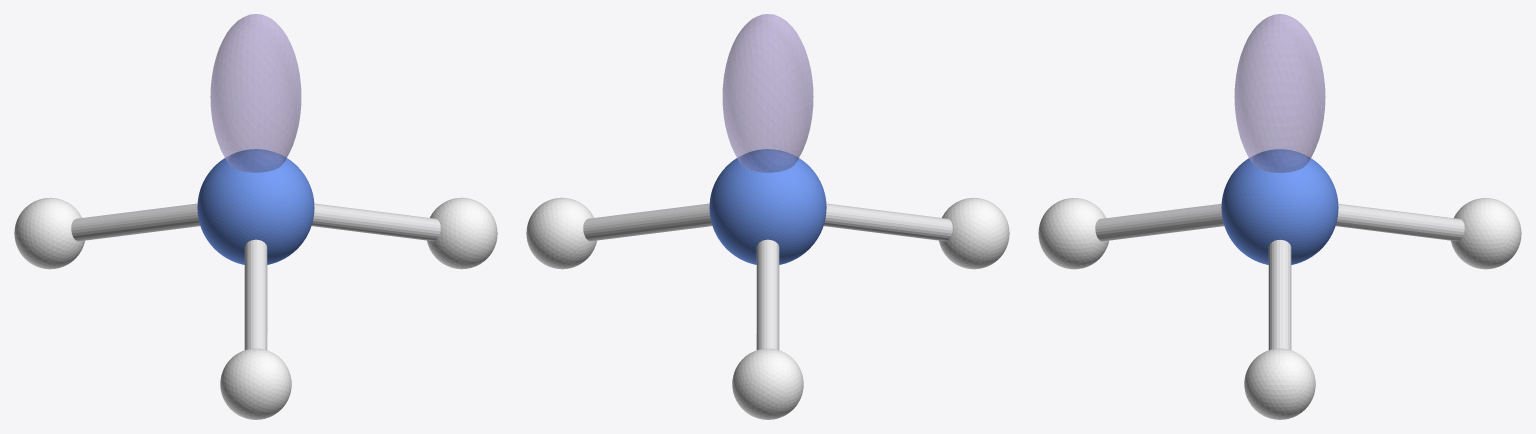
The picture shows the model from 3 angles, left to right: view 1: azimuth 30°, elevation 25°; view 2: azimuth 150°, elevation 25°; view 3: azimuth 270°, elevation 25°; orthographic projection.
Parts seen in each view (by area): view 1: lone_pair_0, N_centre, H_2, H_1, H_3, bond_3, bond_1, bond_2; view 2: lone_pair_0, N_centre, H_3, H_1, H_2, bond_2, bond_1, bond_3; view 3: lone_pair_0, N_centre, H_1, H_2, H_3, bond_2, bond_3, bond_1.
Boxes of the visible parts, <box> form: lone_pair_0: <box>210,14,301,172</box>; N_centre: <box>197,149,314,264</box>; H_2: <box>220,348,291,419</box>; H_1: <box>427,197,497,269</box>; H_3: <box>14,197,84,269</box>; bond_3: <box>71,203,200,241</box>; bond_1: <box>311,203,440,241</box>; bond_2: <box>244,239,267,349</box>; lone_pair_0: <box>722,14,813,172</box>; N_centre: <box>709,149,826,264</box>; H_3: <box>732,348,803,419</box>; H_1: <box>526,197,596,269</box>; H_2: <box>939,197,1009,269</box>; bond_2: <box>823,203,952,241</box>; bond_1: <box>583,203,712,241</box>; bond_3: <box>756,239,779,349</box>; lone_pair_0: <box>1234,14,1325,172</box>; N_centre: <box>1221,149,1338,264</box>; H_1: <box>1244,348,1315,419</box>; H_2: <box>1038,198,1108,269</box>; H_3: <box>1451,198,1521,269</box>; bond_2: <box>1095,203,1224,241</box>; bond_3: <box>1335,203,1464,241</box>; bond_1: <box>1268,240,1291,349</box>.
Size of the model in its own units: 0.2632 by 0.2037 by 0.2971.
